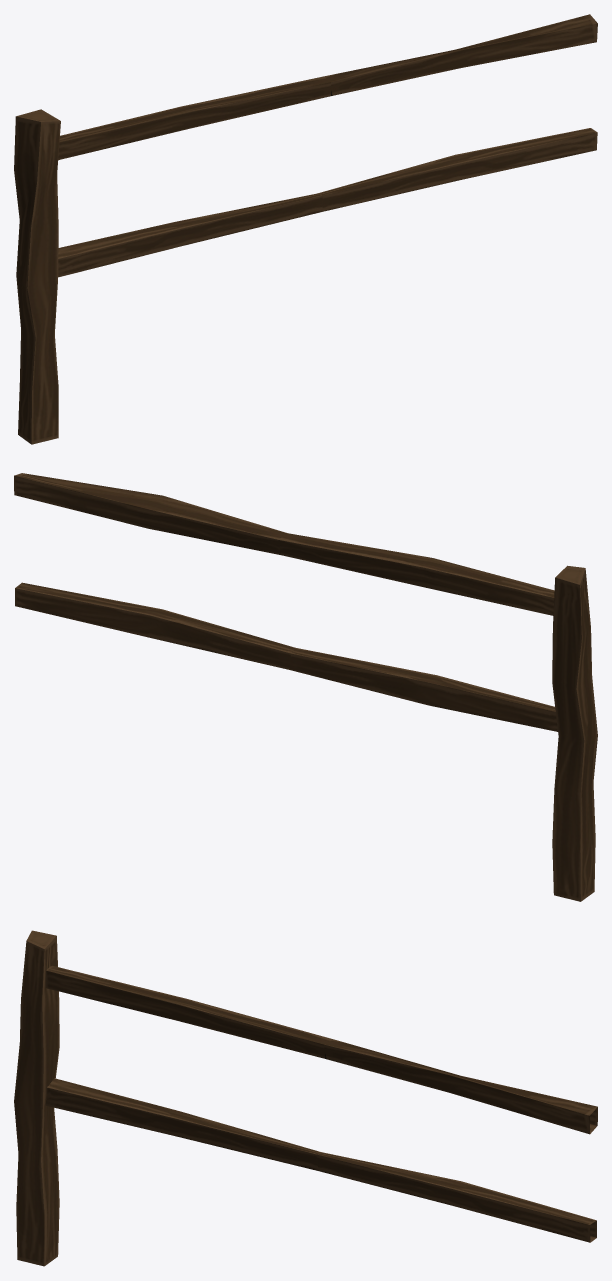
The model's file is Fence02_Geo.fbx.
3 views of the same model, one above another, from view 1: azimuth 30°, elevation 25°; view 2: azimuth 150°, elevation 25°; view 3: azimuth 330°, elevation 25° (orthographic).
Parts seen in each view (by area): view 1: Fence023_Geo, Fence021_Geo, Fence022_Geo; view 2: Fence022_Geo, Fence023_Geo, Fence021_Geo; view 3: Fence023_Geo, Fence022_Geo, Fence021_Geo.
Part boxes in pixels (bbox=[...]): Fence023_Geo: bbox=[58, 128, 597, 277]; Fence021_Geo: bbox=[14, 109, 60, 444]; Fence022_Geo: bbox=[58, 14, 597, 159]; Fence022_Geo: bbox=[14, 473, 554, 615]; Fence023_Geo: bbox=[15, 582, 557, 731]; Fence021_Geo: bbox=[552, 565, 597, 901]; Fence023_Geo: bbox=[45, 1078, 596, 1242]; Fence022_Geo: bbox=[45, 966, 597, 1134]; Fence021_Geo: bbox=[14, 930, 59, 1266].
Bounding box in the file's own units: 181 × 96.83 × 9.13.
